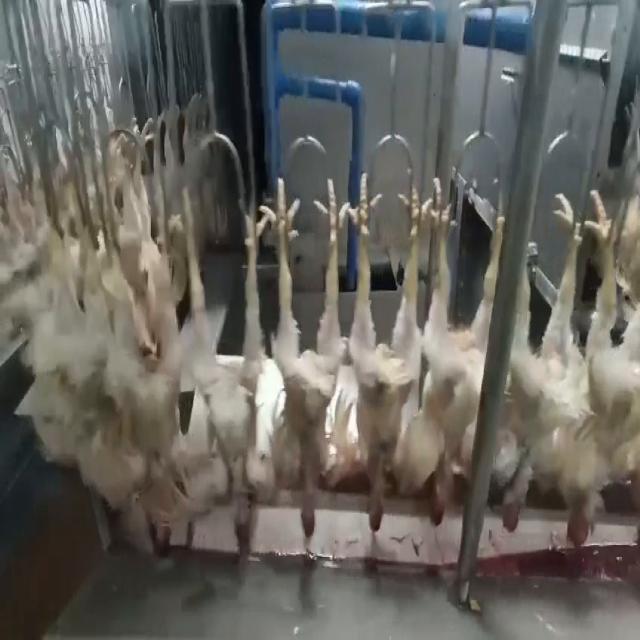chicken: (256, 168, 344, 546), (413, 175, 505, 533), (496, 194, 584, 544), (340, 174, 422, 534), (563, 177, 639, 553), (193, 186, 260, 565), (136, 197, 202, 552)
